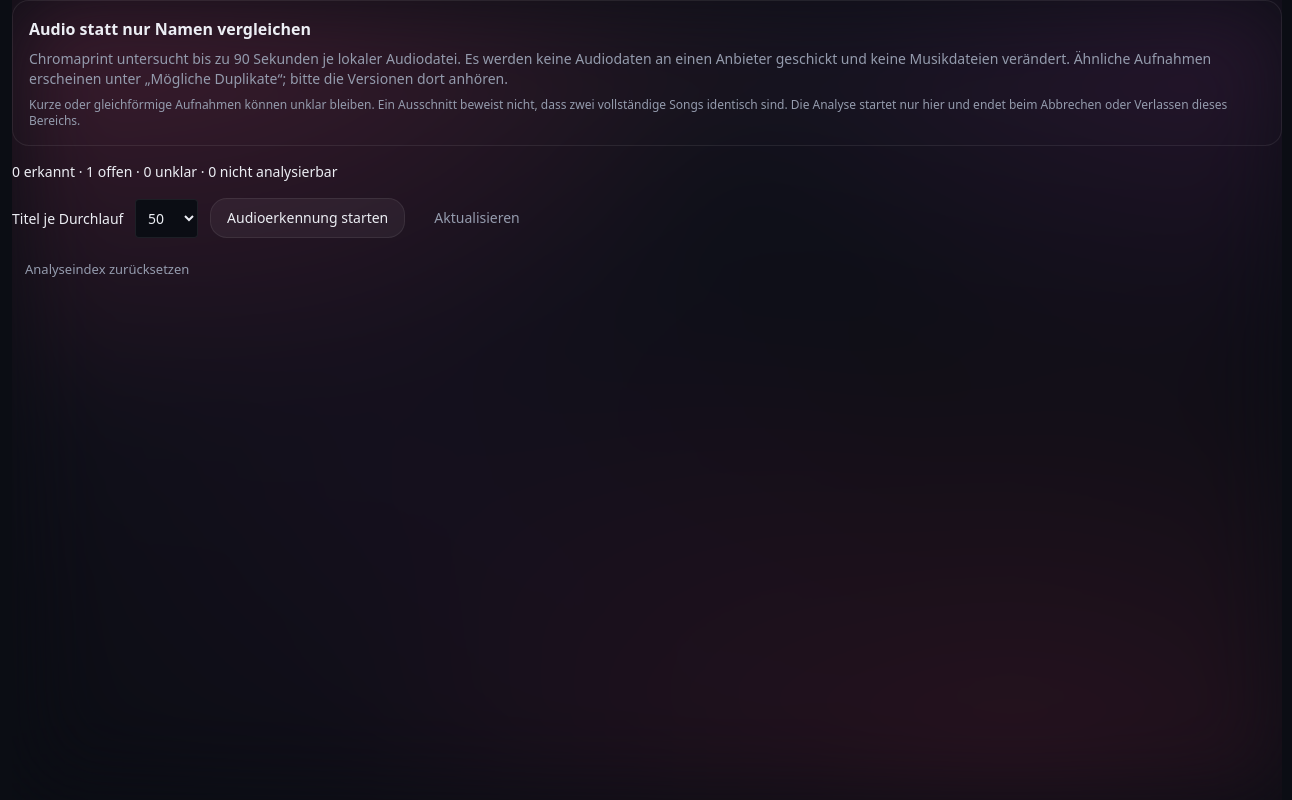
cancel aborts the current request without hiding a server error
This screenshot has width=1292, height=800.
Check: the text "0 erkannt · 1 offen · 0 unklar · 0 nicht analysierbar" is shown, box [12,162,338,181]
Click the button "Audioerkennung starten" at {"x": 308, "y": 218}, box [210,198,405,238]
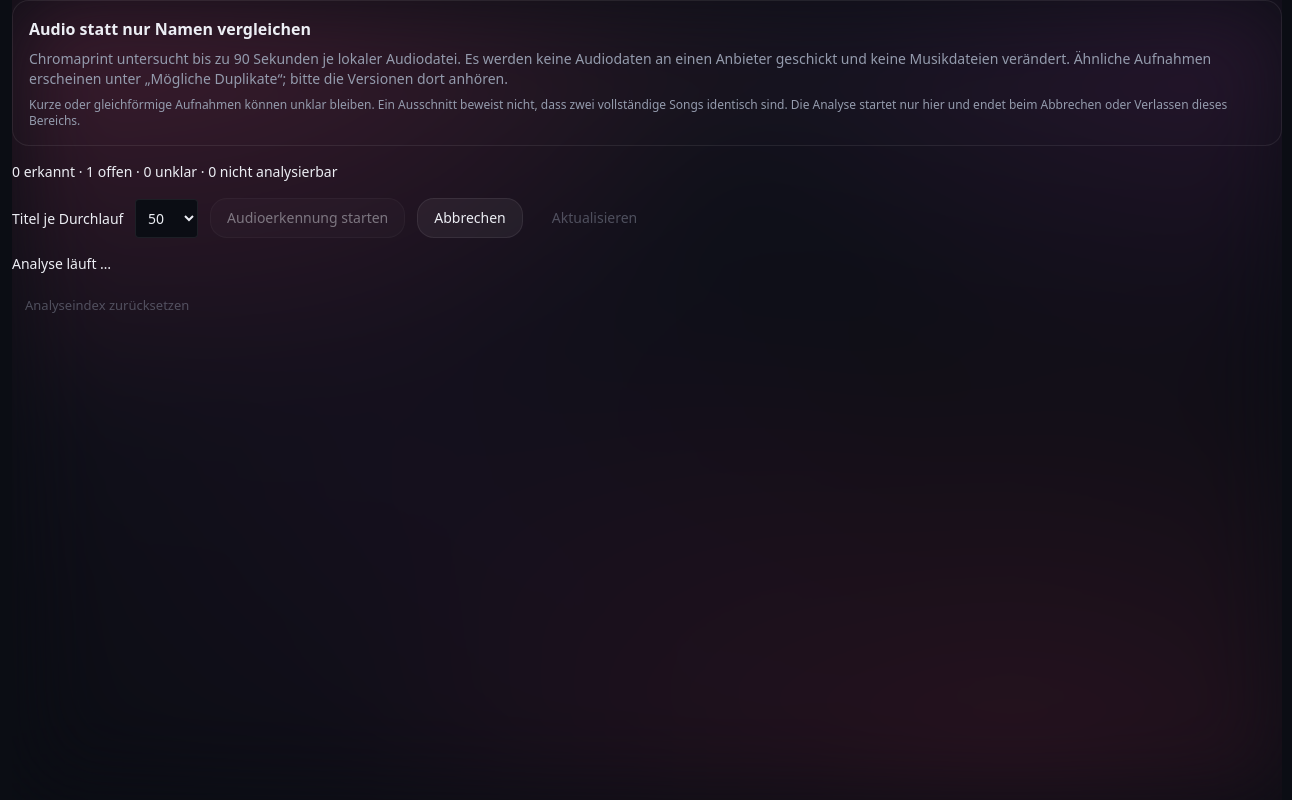
Click the button "Abbrechen" at {"x": 470, "y": 218}, box [417,198,523,238]
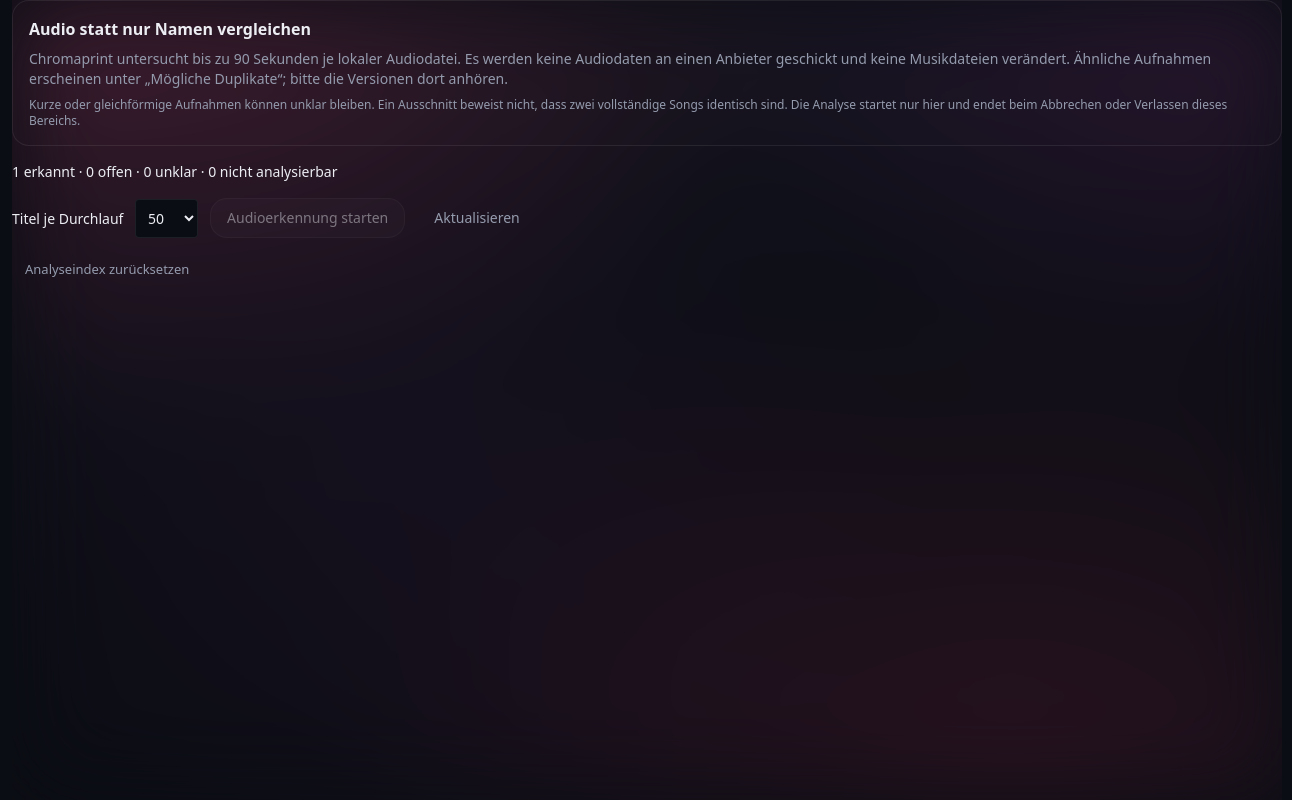
Check: the message "Analyse läuft …" is gone
